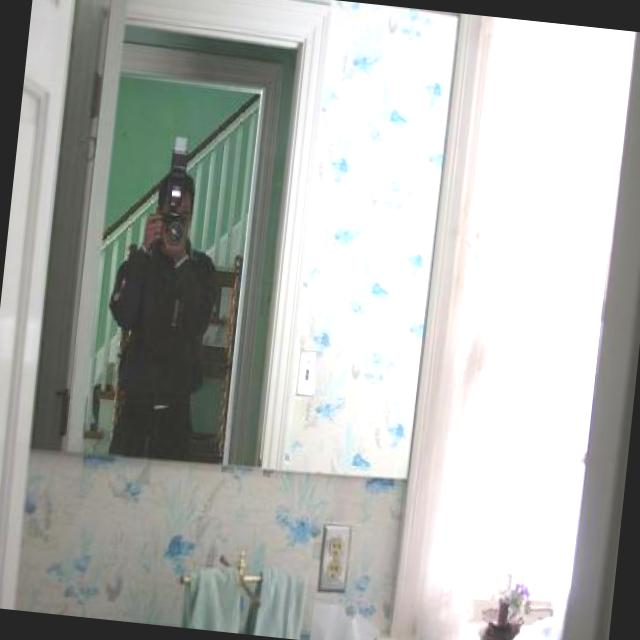Person: (93, 161, 235, 464)
